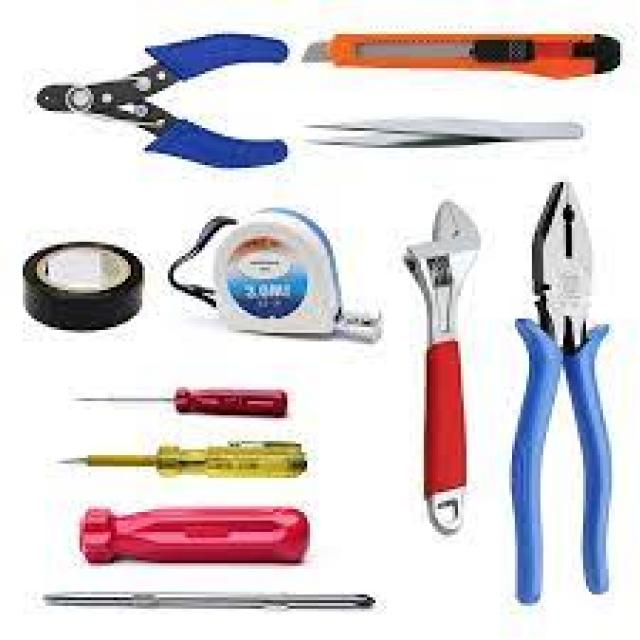Screwdriver: (80, 506, 310, 562), (60, 441, 308, 477), (75, 389, 285, 417)
